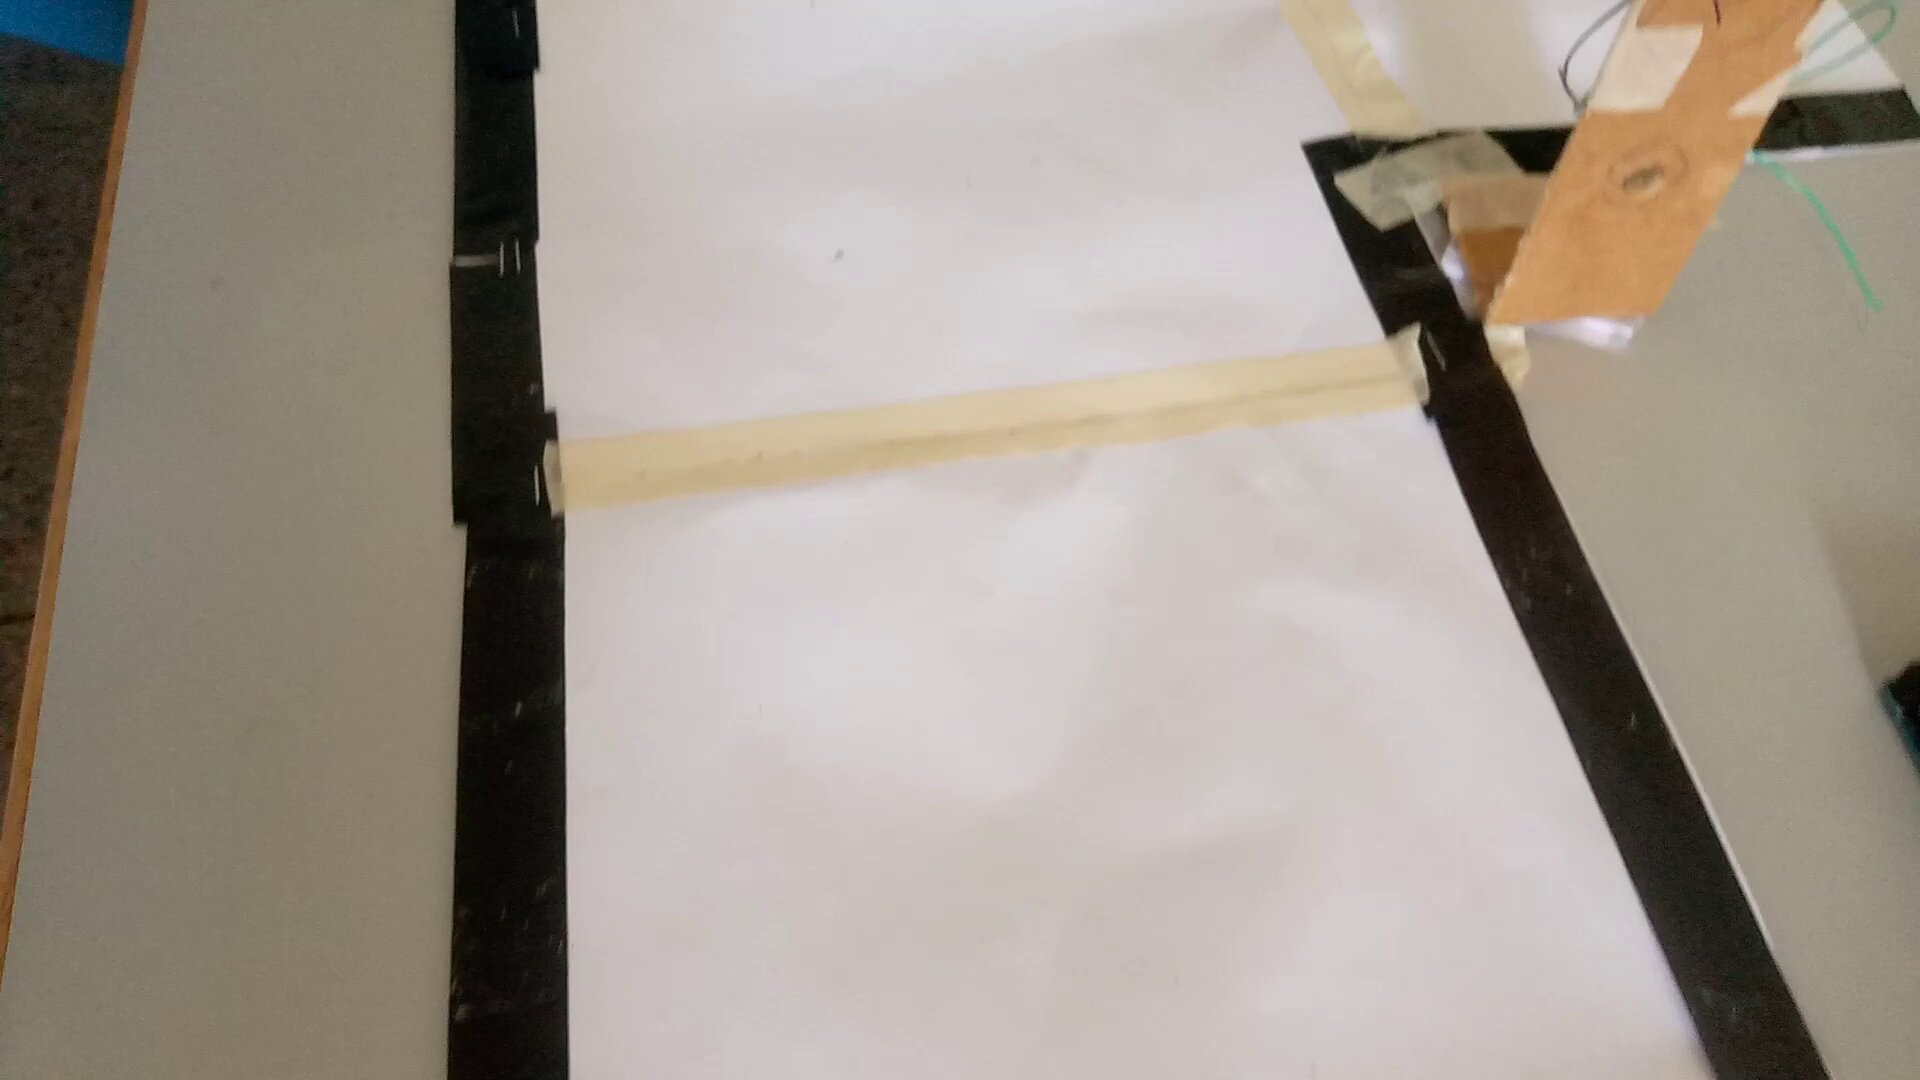forward: (429, 405, 1727, 949)
